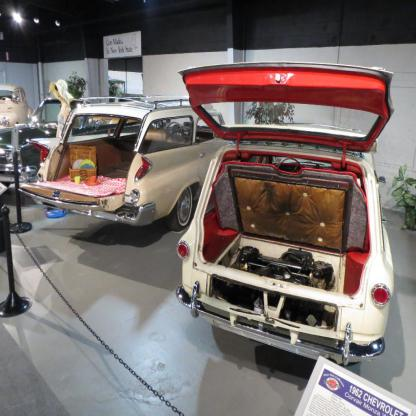Car: (0, 60, 398, 367)
